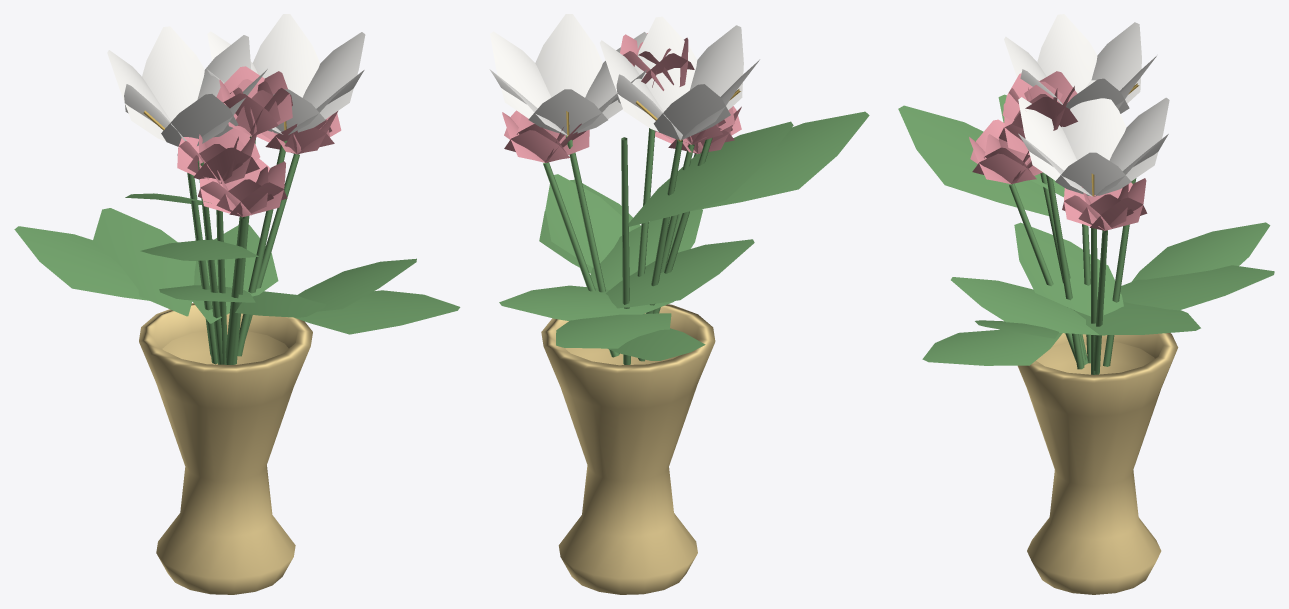
The model's file is lotprop__lot_chapel_nave_flowers_pink_low.glb.
The picture shows the model from 3 angles, left to right: view 1: azimuth 30°, elevation 25°; view 2: azimuth 150°, elevation 25°; view 3: azimuth 270°, elevation 25°; orthographic projection. The views are drawn at different scales.
Parts seen in each view (by area): view 1: lotprop__lot_chapel_nave_flowers_pink_low_brass, lotprop__lot_chapel_nave_flowers_pink_low_leaf, lotprop__lot_chapel_nave_flowers_pink_low_white, lotprop__lot_chapel_nave_flowers_pink_low_tint; view 2: lotprop__lot_chapel_nave_flowers_pink_low_leaf, lotprop__lot_chapel_nave_flowers_pink_low_brass, lotprop__lot_chapel_nave_flowers_pink_low_white, lotprop__lot_chapel_nave_flowers_pink_low_tint; view 3: lotprop__lot_chapel_nave_flowers_pink_low_leaf, lotprop__lot_chapel_nave_flowers_pink_low_brass, lotprop__lot_chapel_nave_flowers_pink_low_white, lotprop__lot_chapel_nave_flowers_pink_low_tint.
Boxes of the visible parts, left/top/right/bottom form: lotprop__lot_chapel_nave_flowers_pink_low_brass: left=139, top=303, right=312, bottom=594; lotprop__lot_chapel_nave_flowers_pink_low_leaf: left=14, top=135, right=460, bottom=364; lotprop__lot_chapel_nave_flowers_pink_low_white: left=107, top=14, right=365, bottom=146; lotprop__lot_chapel_nave_flowers_pink_low_tint: left=177, top=66, right=341, bottom=217; lotprop__lot_chapel_nave_flowers_pink_low_leaf: left=499, top=111, right=869, bottom=364; lotprop__lot_chapel_nave_flowers_pink_low_brass: left=541, top=304, right=715, bottom=594; lotprop__lot_chapel_nave_flowers_pink_low_white: left=489, top=14, right=759, bottom=140; lotprop__lot_chapel_nave_flowers_pink_low_tint: left=502, top=33, right=741, bottom=162; lotprop__lot_chapel_nave_flowers_pink_low_leaf: left=898, top=94, right=1274, bottom=374; lotprop__lot_chapel_nave_flowers_pink_low_brass: left=1017, top=333, right=1178, bottom=594; lotprop__lot_chapel_nave_flowers_pink_low_white: left=1004, top=14, right=1169, bottom=196; lotprop__lot_chapel_nave_flowers_pink_low_tint: left=969, top=71, right=1147, bottom=230.
Bounding box in the file's own units: 0.2859 × 0.4953 × 0.3357.
